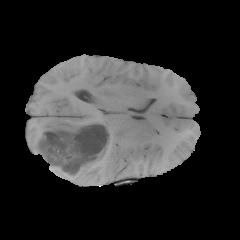glioma: (35, 123, 110, 179)
